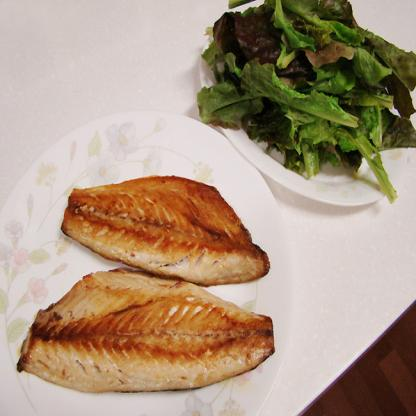Peixe: (17, 162, 288, 416)
